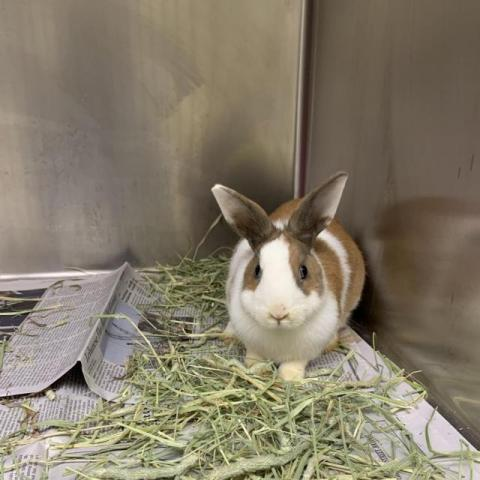small_animal: (209, 169, 369, 382)
